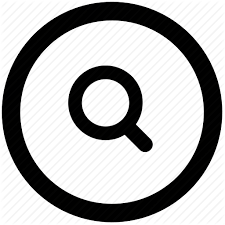searchIcon: (67, 63, 155, 155)
